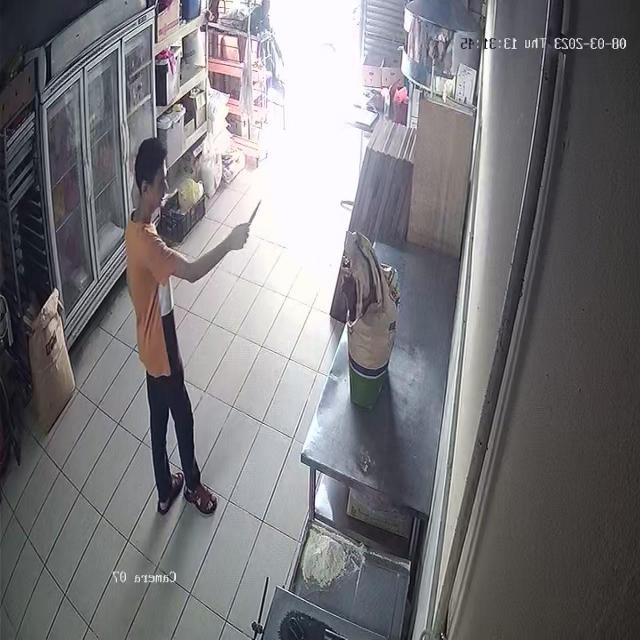Knife: (232, 187, 269, 249)
